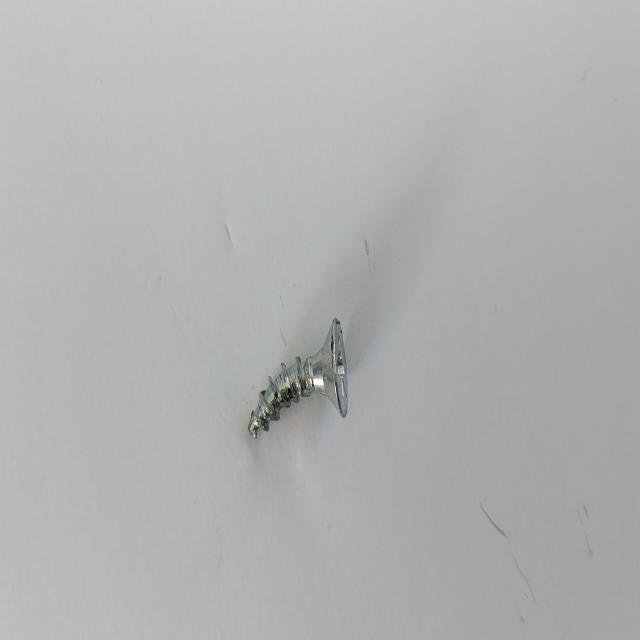Screw: (248, 318, 348, 437)
